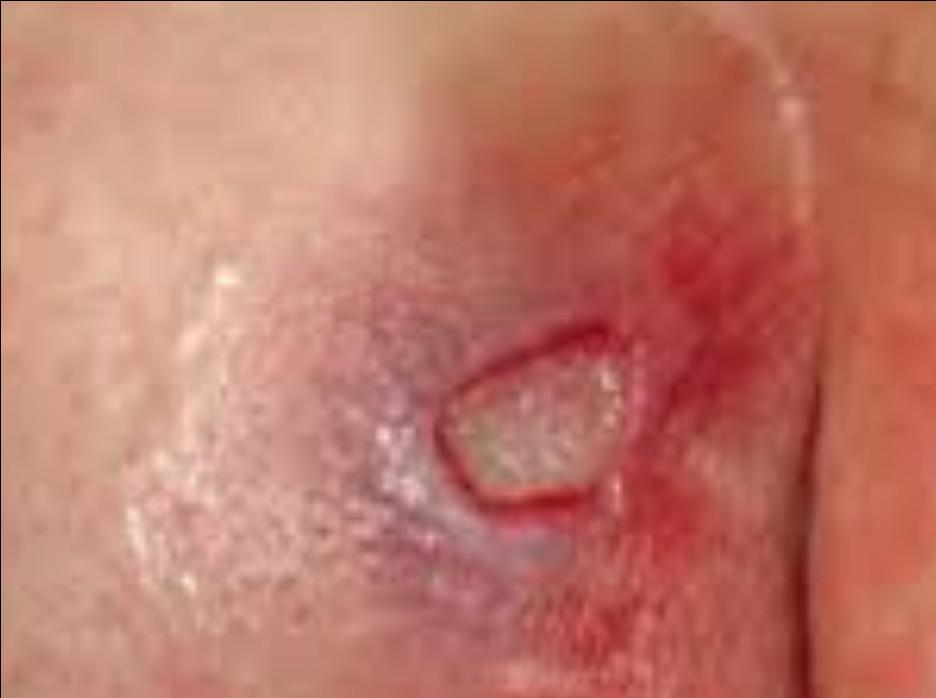Stage2: (407, 308, 667, 557)
